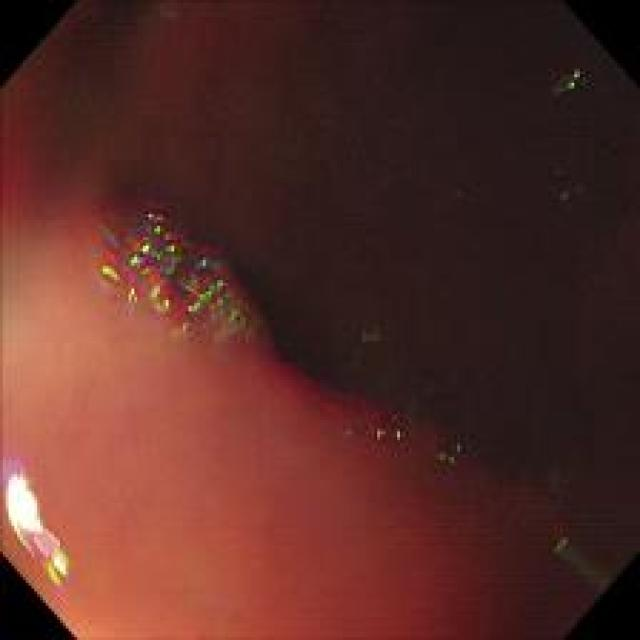color misalignment: (95, 195, 245, 358), (339, 381, 468, 469), (1, 458, 71, 590), (549, 511, 625, 600), (228, 292, 268, 345), (349, 321, 388, 354), (558, 65, 585, 104), (556, 182, 589, 205), (550, 159, 580, 178)
contrast: (129, 14, 605, 442)
